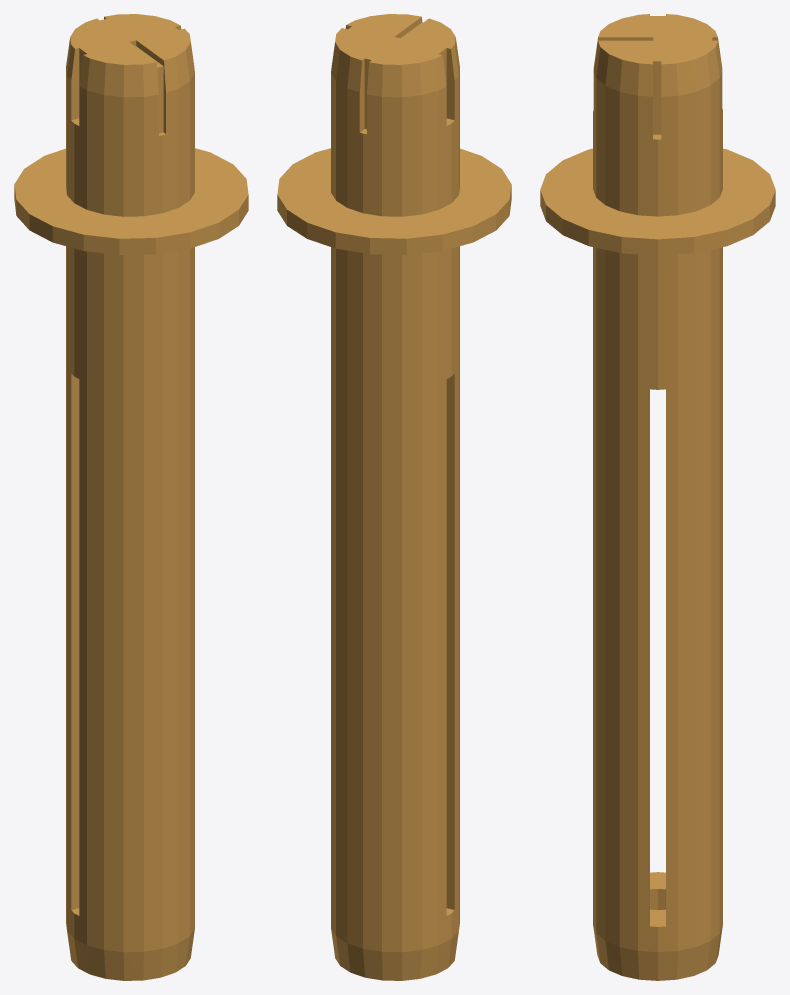
File: reel_left.glb
3 views of the same model, side by side, from view 1: azimuth 30°, elevation 25°; view 2: azimuth 150°, elevation 25°; view 3: azimuth 270°, elevation 25° (orthographic).
Parts seen in each view (by area): view 1: Mesh_Mesh_head_geo.001_lambert2SG.001; view 2: Mesh_Mesh_head_geo.001_lambert2SG.001; view 3: Mesh_Mesh_head_geo.001_lambert2SG.001.
Boxes of the visible parts, <box> form: Mesh_Mesh_head_geo.001_lambert2SG.001: <box>14,14,248,980</box>; Mesh_Mesh_head_geo.001_lambert2SG.001: <box>277,14,511,980</box>; Mesh_Mesh_head_geo.001_lambert2SG.001: <box>540,14,775,980</box>.
Bounding box in the file's own units: 0.0145 × 0.0623 × 0.0145.
